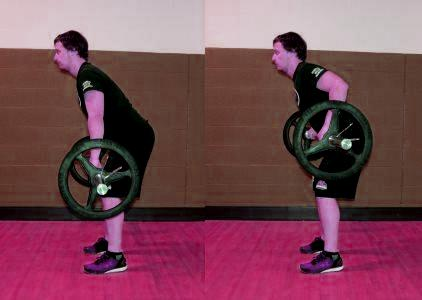Barbell: (98, 184, 111, 197), (341, 139, 353, 152)
